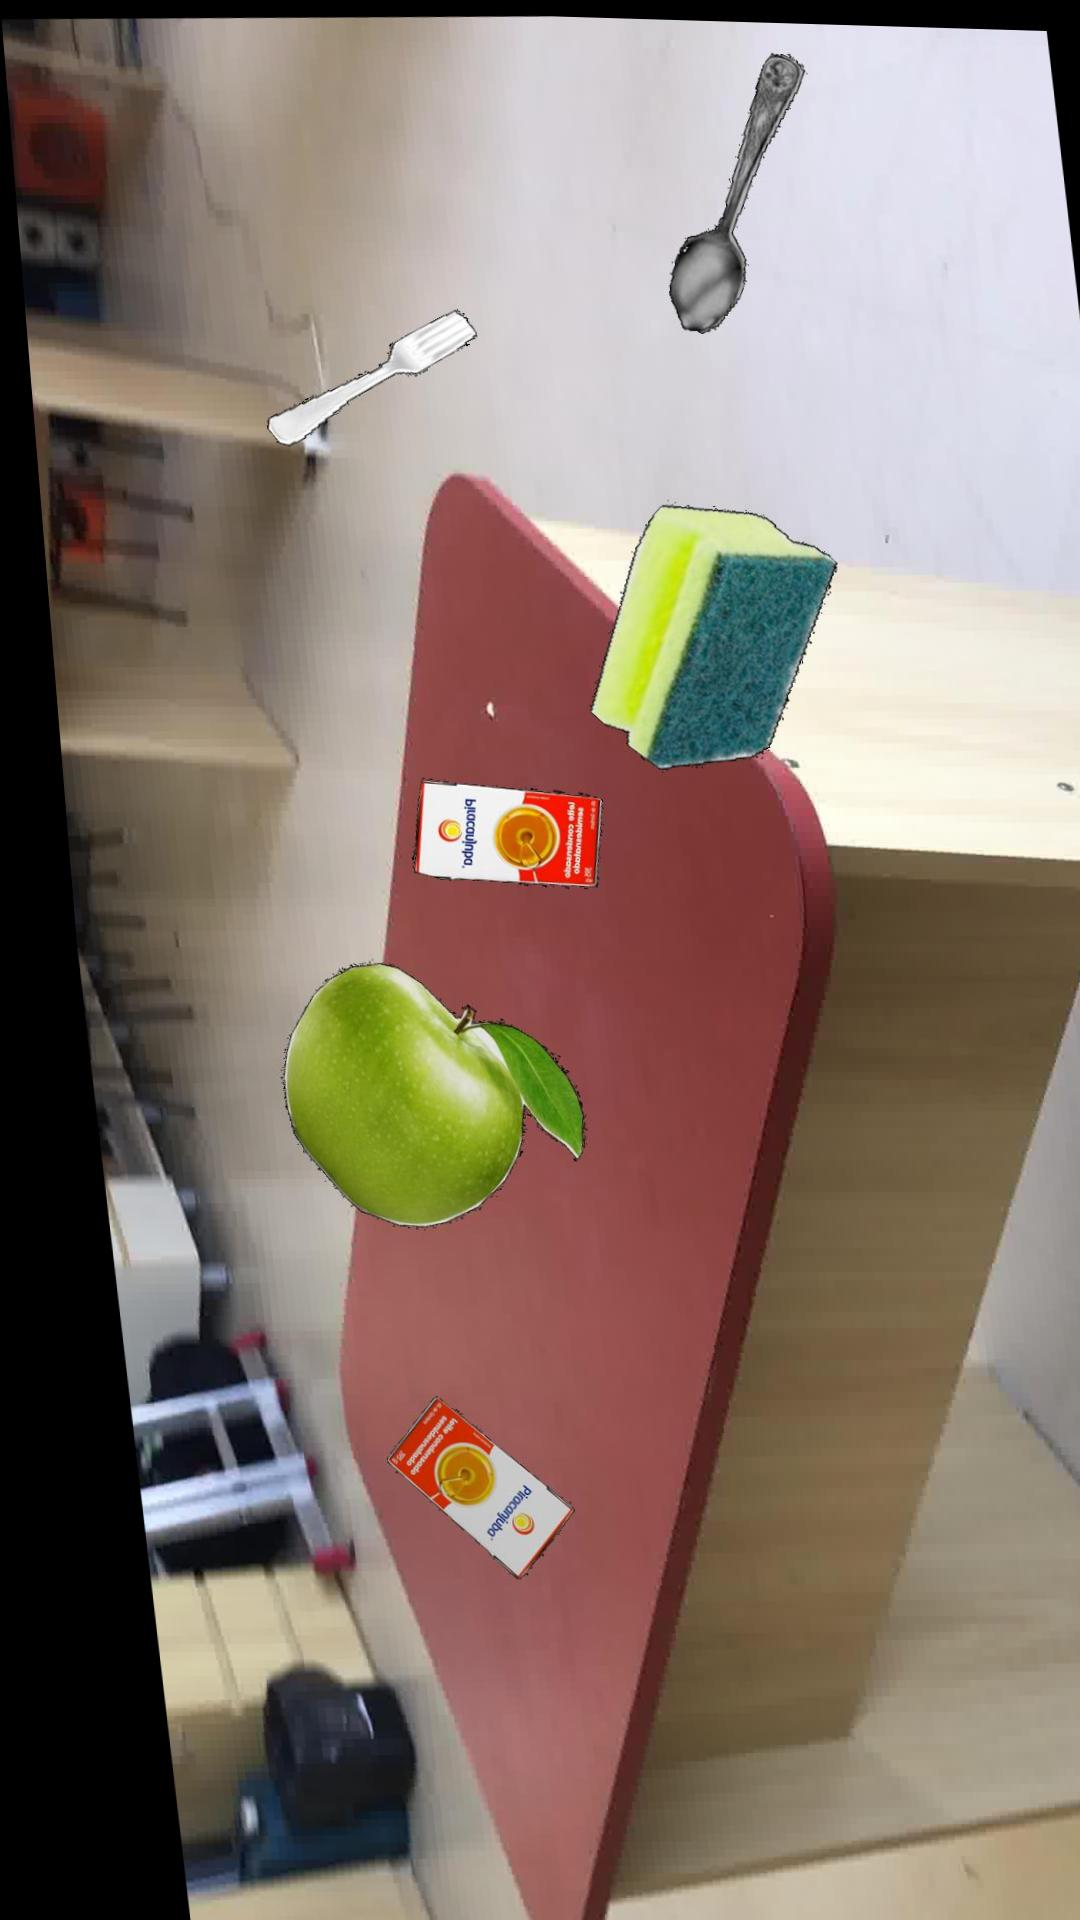fork: (260, 305, 472, 442)
green apple: (265, 959, 566, 1222)
sponge: (579, 498, 828, 764)
spoon: (665, 46, 804, 327)
